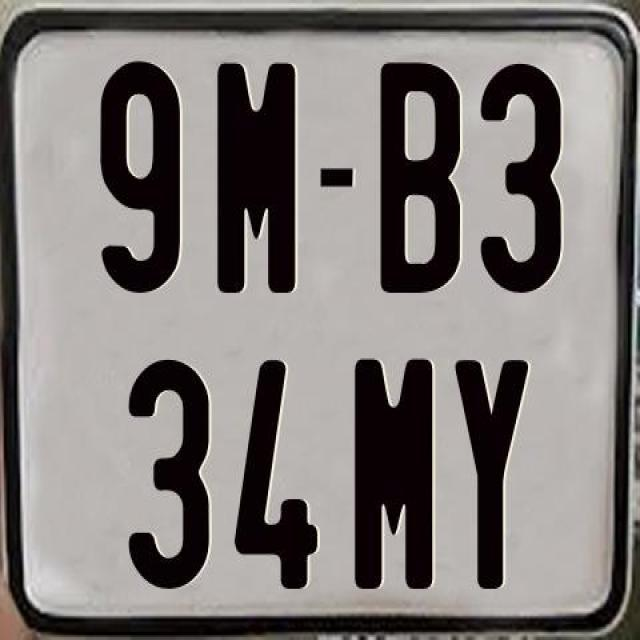3: (124, 360, 214, 595), (477, 60, 563, 298)
4: (230, 360, 314, 589)
9: (100, 58, 186, 296)
B: (379, 61, 462, 300)
M: (351, 355, 434, 586), (217, 58, 295, 294)
Y: (452, 358, 525, 594)
